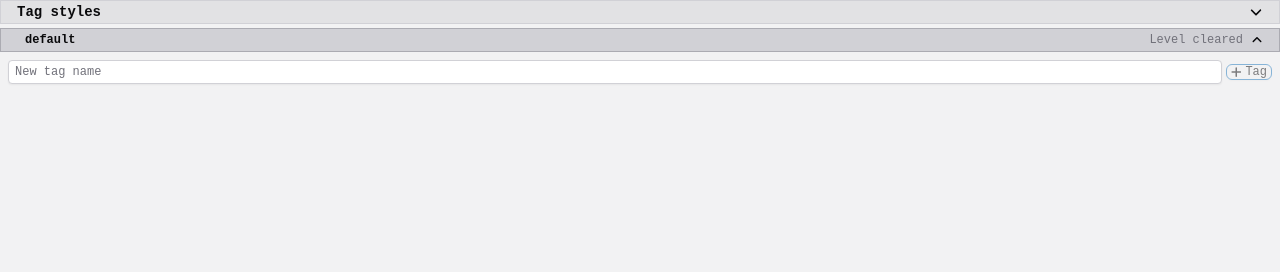
Test: MultiStyleTextSection › offers no way to clear a property off default, or to delete it
Click the element showing "default Level cleared".
click(640, 40)  # box 0,28 -> 1279,52
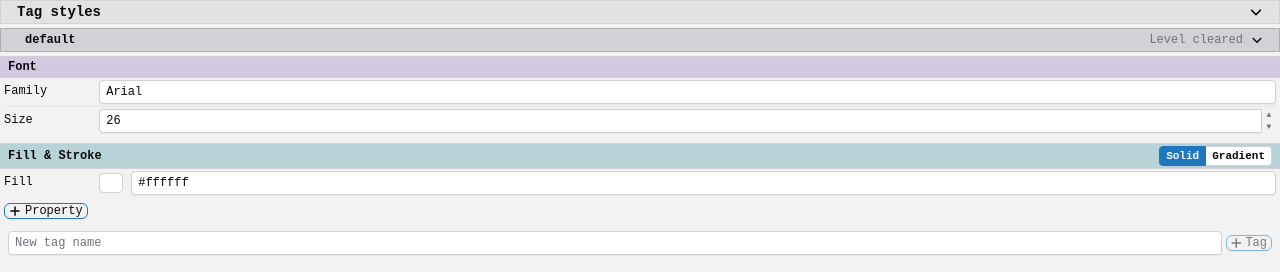
Now the text "Family" is shown, box 4,84 -> 47,98
